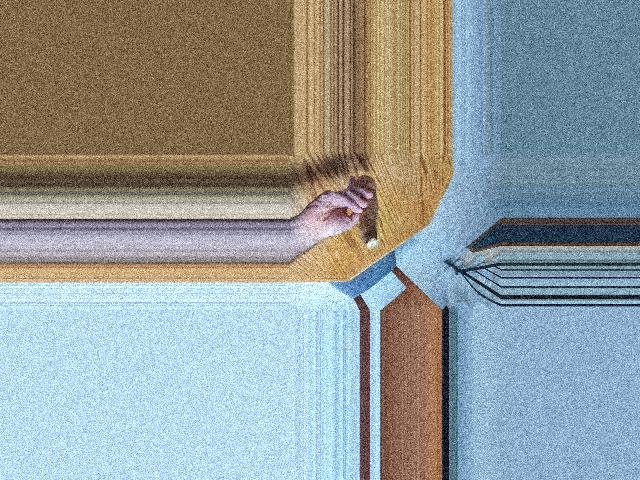sweet_potato: (361, 187, 376, 250)
